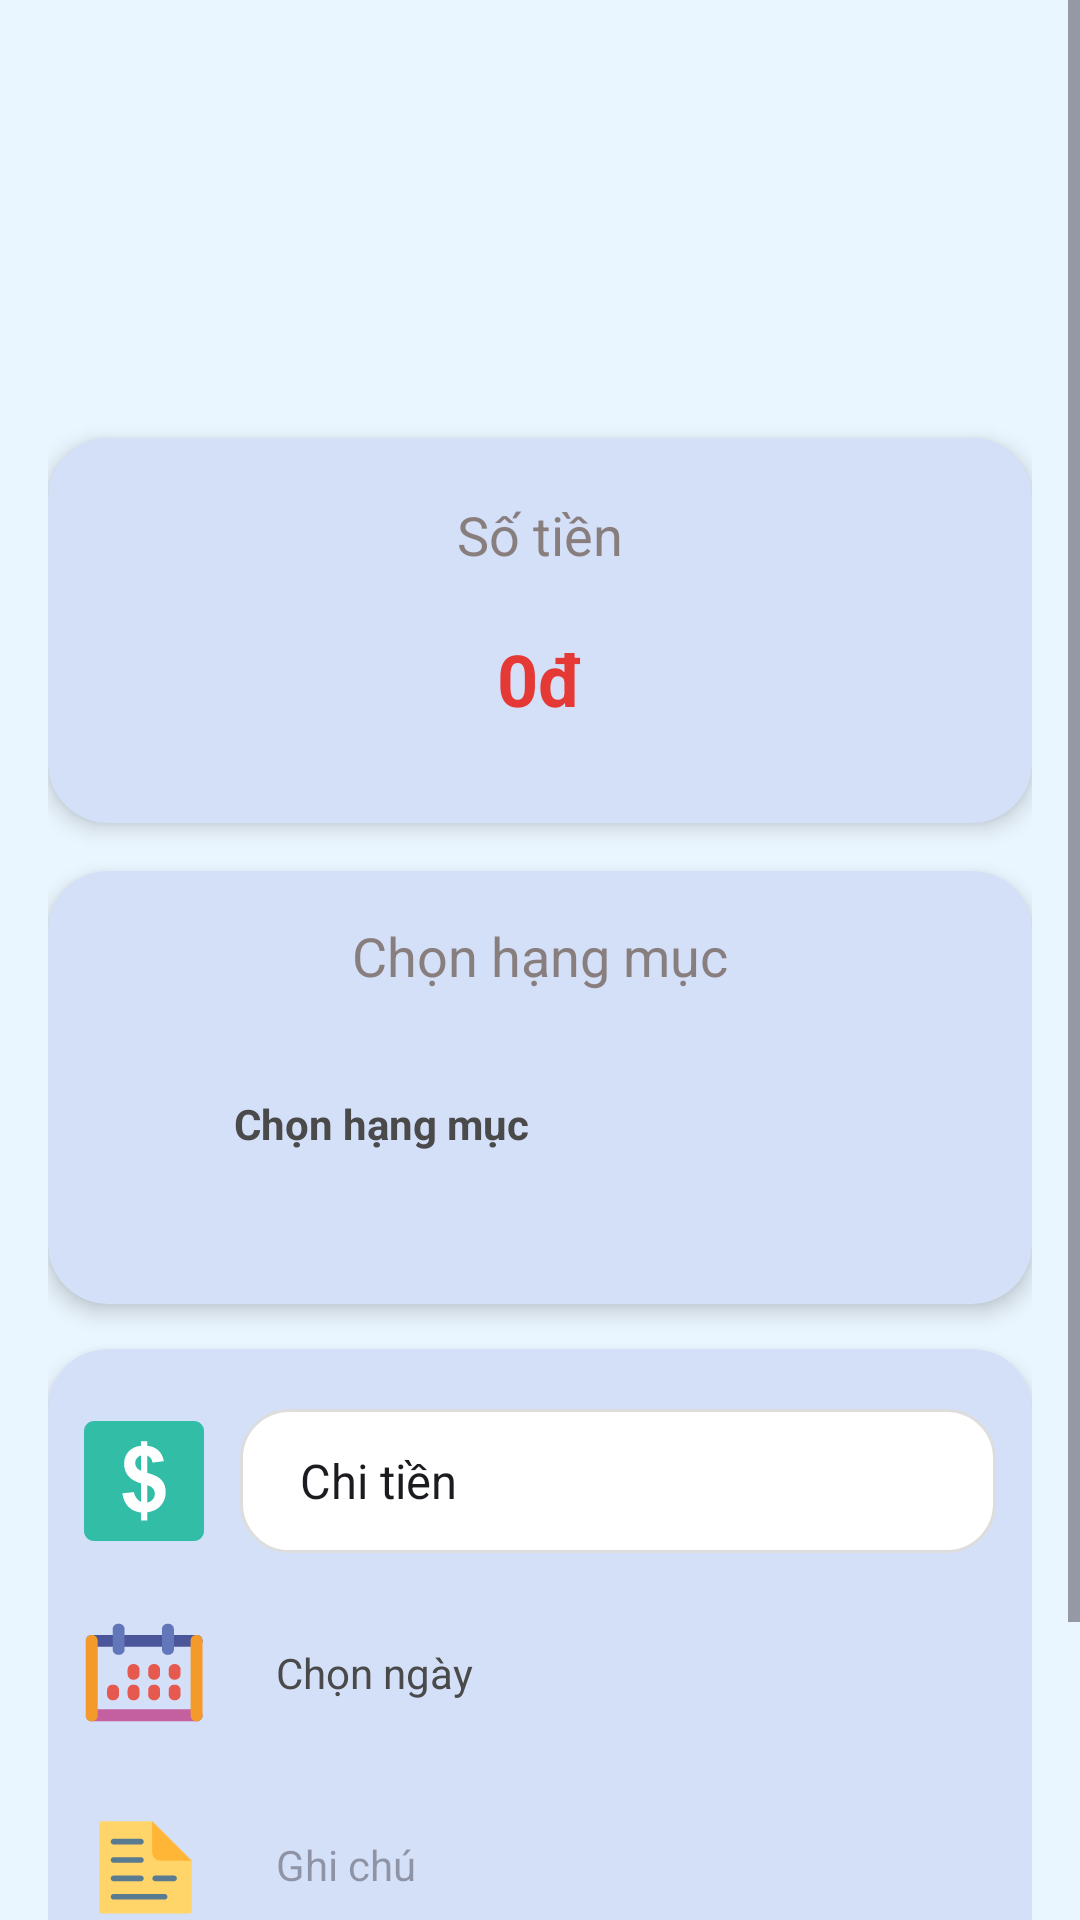

Screen size 1080w x 1920h. Icon name, then its box in pixels as {"x1": x1, "y1": y1, "x2": x2, "y2": y2}:
date: {"x1": 85, "y1": 1623, "x2": 203, "y2": 1722}
money: {"x1": 84, "y1": 1421, "x2": 204, "y2": 1541}
note: {"x1": 99, "y1": 1821, "x2": 192, "y2": 1914}
